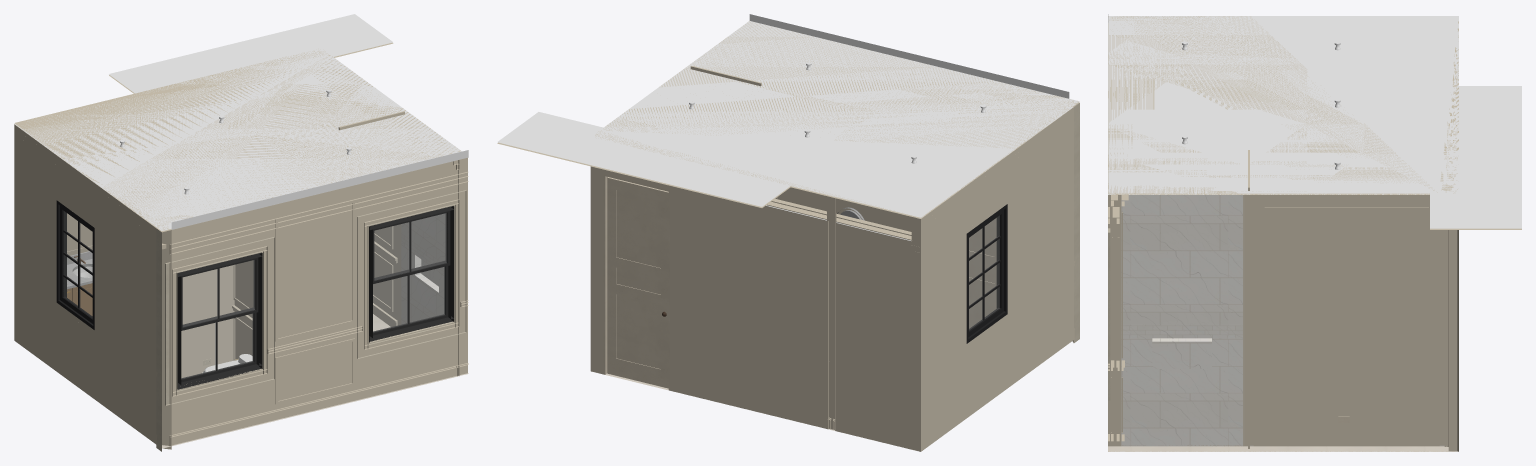
File: primary-bath-ec5ba777994e.glb
3 renders of one model, left to right at view 1: azimuth 30°, elevation 25°; view 2: azimuth 150°, elevation 25°; view 3: azimuth 270°, elevation 25°, orthographic. The views are drawn at different scales.
Visible parts, largest first — view 1: primary-bath-9d91b47435c6fb33, primary-bath-b0ade14315e4f1c3, primary-bath-c51ecd664a3b22a3, primary-bath-e8793759323e04f0, primary-bath-60f0db96f832035a, primary-bath-b5cb73c07919def8, primary-bath-look-9d91b47435c6fb33, primary-bath-10eba734bfa580f9, primary-bath-20932135983111ad, primary-bath-ef64d5096d209f6d, primary-bath-b5339e4b2b15762b, primary-bath-62353aa10fc57f23 (+12 smaller); view 2: primary-bath-9ecc0d558be1c706, primary-bath-9d91b47435c6fb33, primary-bath-c51ecd664a3b22a3, primary-bath-e8793759323e04f0, primary-bath-18f70a4a9eda5dac, primary-bath-look-9d91b47435c6fb33, primary-bath-20932135983111ad, primary-bath-25ea03c5717987c5, primary-bath-e48b5483df8cacdb, primary-bath-b88ac105ef7c3bdb, primary-bath-62353aa10fc57f23, primary-bath-1a6c50e4c3accb7b (+2 smaller); view 3: primary-bath-9d91b47435c6fb33, primary-bath-fc6585fecfaf7ec3, primary-bath-e8793759323e04f0, primary-bath-3d8660a29b1e398e, primary-bath-2bc0761cc32b9613, primary-bath-look-9d91b47435c6fb33, primary-bath-c791a0f218fead78, primary-bath-9ecc0d558be1c706, primary-bath-343da8f45fc39332, primary-bath-b3921aced1f99593, primary-bath-b3dc771ed6f89851, primary-bath-38b306e83be12a4b (+8 smaller).
Boxes of the visible parts, bbox=[...] form: primary-bath-9d91b47435c6fb33: bbox=[18, 48, 468, 232]; primary-bath-b0ade14315e4f1c3: bbox=[171, 157, 467, 434]; primary-bath-c51ecd664a3b22a3: bbox=[14, 124, 156, 444]; primary-bath-e8793759323e04f0: bbox=[14, 51, 468, 229]; primary-bath-60f0db96f832035a: bbox=[177, 252, 262, 389]; primary-bath-b5cb73c07919def8: bbox=[369, 206, 454, 342]; primary-bath-look-9d91b47435c6fb33: bbox=[109, 14, 393, 93]; primary-bath-10eba734bfa580f9: bbox=[184, 265, 234, 377]; primary-bath-20932135983111ad: bbox=[56, 200, 94, 329]; primary-bath-ef64d5096d209f6d: bbox=[169, 363, 468, 445]; primary-bath-b5339e4b2b15762b: bbox=[169, 171, 468, 254]; primary-bath-62353aa10fc57f23: bbox=[156, 228, 171, 451]; primary-bath-9ecc0d558be1c706: bbox=[590, 166, 919, 451]; primary-bath-9d91b47435c6fb33: bbox=[591, 21, 1079, 218]; primary-bath-c51ecd664a3b22a3: bbox=[911, 107, 1073, 451]; primary-bath-e8793759323e04f0: bbox=[595, 14, 1077, 210]; primary-bath-18f70a4a9eda5dac: bbox=[607, 177, 668, 388]; primary-bath-look-9d91b47435c6fb33: bbox=[497, 112, 790, 207]; primary-bath-20932135983111ad: bbox=[966, 204, 1007, 343]; primary-bath-25ea03c5717987c5: bbox=[969, 218, 996, 328]; primary-bath-e48b5483df8cacdb: bbox=[827, 196, 836, 430]; primary-bath-b88ac105ef7c3bdb: bbox=[603, 174, 669, 390]; primary-bath-62353aa10fc57f23: bbox=[1072, 103, 1079, 342]; primary-bath-1a6c50e4c3accb7b: bbox=[777, 187, 879, 224]; primary-bath-9d91b47435c6fb33: bbox=[1108, 16, 1458, 194]; primary-bath-fc6585fecfaf7ec3: bbox=[1248, 193, 1458, 451]; primary-bath-e8793759323e04f0: bbox=[1108, 14, 1458, 193]; primary-bath-3d8660a29b1e398e: bbox=[1121, 195, 1242, 324]; primary-bath-2bc0761cc32b9613: bbox=[1121, 338, 1242, 446]; primary-bath-look-9d91b47435c6fb33: bbox=[1430, 86, 1521, 229]; primary-bath-c791a0f218fead78: bbox=[1108, 189, 1247, 451]; primary-bath-9ecc0d558be1c706: bbox=[1447, 230, 1458, 451]; primary-bath-343da8f45fc39332: bbox=[1253, 434, 1439, 446]; primary-bath-b3921aced1f99593: bbox=[1108, 446, 1457, 451]; primary-bath-b3dc771ed6f89851: bbox=[1264, 207, 1428, 352]; primary-bath-38b306e83be12a4b: bbox=[1121, 324, 1242, 338].
Bounding box in the file's own units: 5.14 × 3.04 × 4.23.
32 materials, 8 textured.
